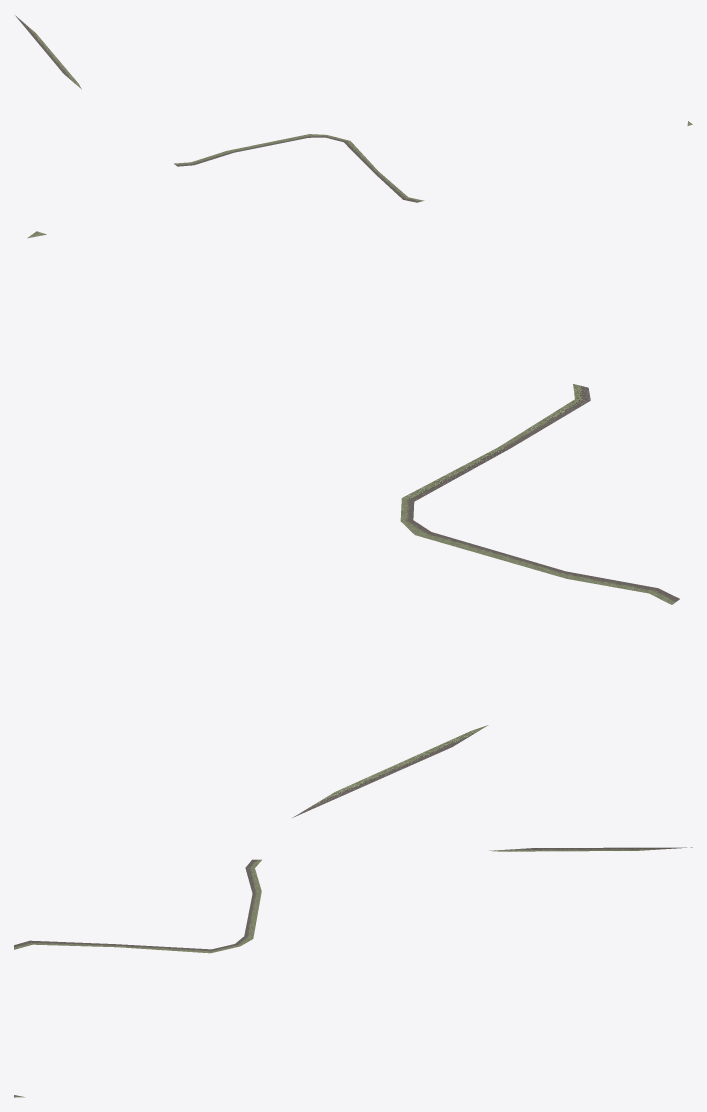
Rendered from kd_stage_135b75_4_148_bounded.glb.
3 views of the same model, one above another, from view 1: azimuth 30°, elevation 25°; view 2: azimuth 150°, elevation 25°; view 3: azimuth 270°, elevation 25° (orthographic). The views are drawn at different scales.
Visible parts, largest first — view 1: kd_stage_135b75_4_148_bounded; view 2: kd_stage_135b75_4_148_bounded; view 3: kd_stage_135b75_4_148_bounded.
Part boxes in pixels (<box>): kd_stage_135b75_4_148_bounded: <box>15,15,692,202</box>; kd_stage_135b75_4_148_bounded: <box>27,231,679,817</box>; kd_stage_135b75_4_148_bounded: <box>14,847,692,1097</box>.
Size of the model in its own units: 3.79 by 0.1509 by 4.32.
Materials: 1 (1 with a texture image).
